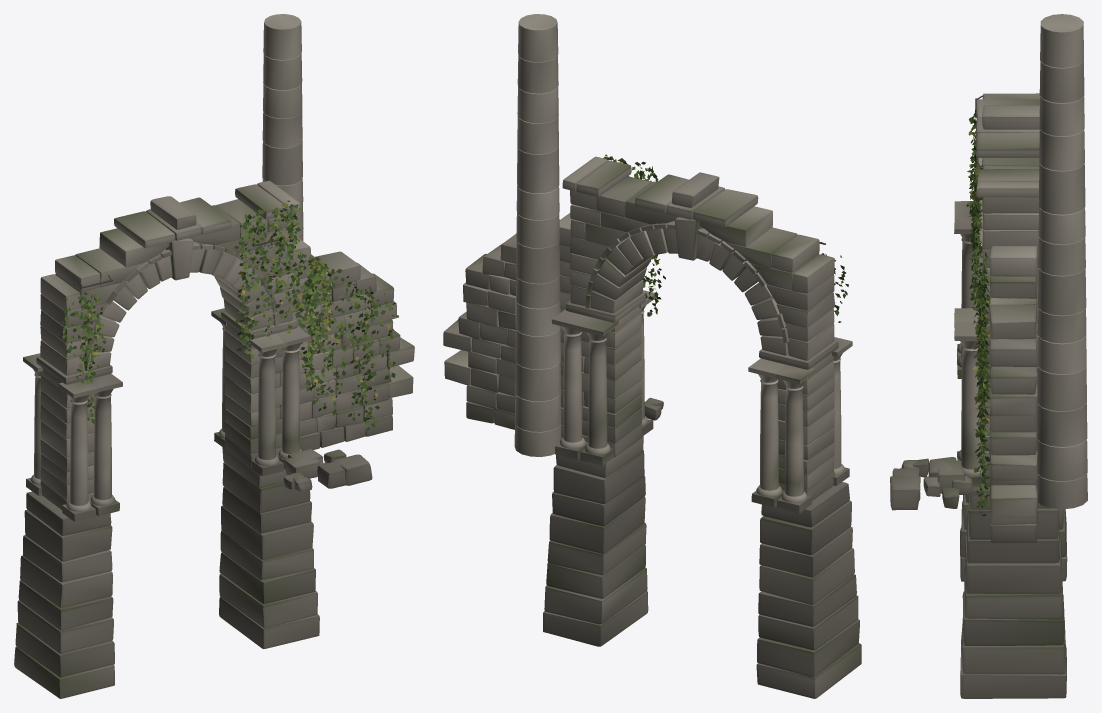
The model's file is archway.glb.
3 views of the same model, side by side, from view 1: azimuth 30°, elevation 25°; view 2: azimuth 150°, elevation 25°; view 3: azimuth 270°, elevation 25° (orthographic). The views are drawn at different scales.
Parts seen in each view (by area): view 1: arch_stone, arch_ivy; view 2: arch_stone, arch_ivy; view 3: arch_stone, arch_ivy.
Part boxes in pixels (x1,y1,x2,y2): arch_stone: [14, 14, 414, 698]; arch_ivy: [60, 200, 398, 430]; arch_stone: [443, 14, 861, 698]; arch_ivy: [603, 154, 848, 322]; arch_stone: [890, 14, 1087, 698]; arch_ivy: [966, 110, 990, 516].
Bounding box in the file's own units: 15.45 × 23.25 × 6.13.
